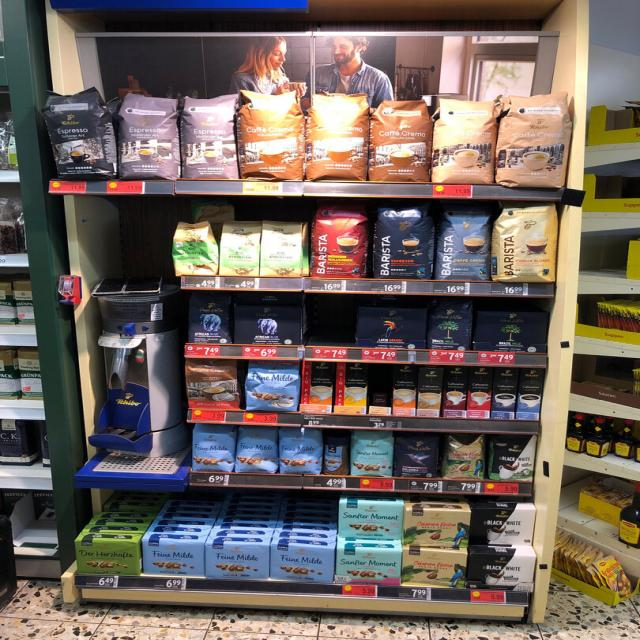AB Bohne: (187, 292, 232, 344)
AB Gemahlen: (233, 303, 303, 346)
Athiopien Bohne: (173, 220, 219, 277)
Athiopien Gemahlen: (259, 219, 309, 280), (218, 219, 263, 277)
BM Bohne: (427, 298, 475, 351)
BM Gemahlen: (473, 309, 548, 353)
BW Bohne: (486, 435, 537, 480)
BW Gemahlen: (465, 553, 536, 593), (468, 508, 537, 546)
Barista CB: (492, 202, 559, 285)
Barista CC: (434, 205, 496, 283)
Barista Espresso: (372, 203, 434, 281)
Barista Kolumbien: (309, 204, 371, 279)
C Fino Bohne: (394, 434, 442, 479)
CC Mild: (495, 89, 573, 190), (430, 95, 498, 184)
CC Vollmundig: (182, 359, 240, 411)
CC Vollmundig 36 Pads: (240, 88, 307, 182), (304, 90, 371, 183), (367, 96, 432, 184)
Colombia BB Bohne: (442, 434, 487, 480)
Colombia BB Gemahlen: (401, 509, 473, 548), (402, 549, 467, 589)
Empty Shelf: (305, 295, 354, 347), (368, 364, 394, 406)
FM 36 Pads: (244, 361, 301, 413)
FM Bohne: (190, 425, 236, 473), (234, 427, 279, 475), (278, 428, 322, 476)
FM Gemahlen: (268, 543, 335, 583), (139, 538, 204, 577), (205, 542, 270, 580)
FM Instant: (323, 438, 351, 475)
Herzhatfe Mundig: (74, 538, 139, 576)
LG Gemahlen: (353, 307, 428, 350)
SM Bohne: (350, 430, 396, 477)
SM Gemahlen: (334, 501, 404, 541), (333, 548, 403, 586)
Simo CCMild: (335, 362, 368, 415)
Simo CCVollmundig: (300, 361, 335, 415)
Simo CCVollmundig bigpack: (391, 365, 419, 416)
Simo Decaff: (417, 368, 443, 418)
Simo Es Brazil: (466, 367, 492, 419)
Simo Es Caramel: (441, 366, 469, 418)
Simo Es Kraft: (492, 367, 518, 419)
Simo Es Vanilla: (517, 369, 544, 420)
